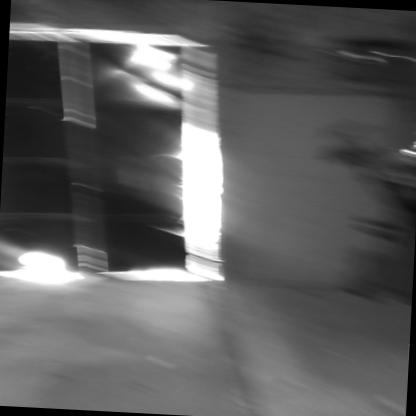closed: (0, 2, 226, 286)
